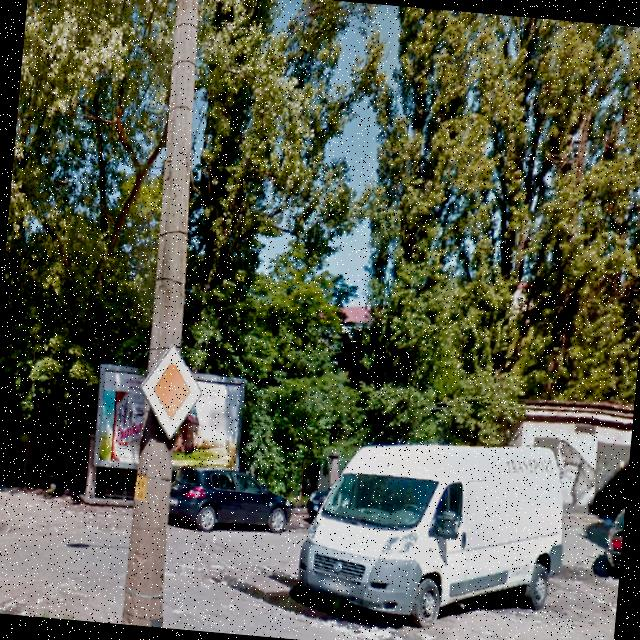Droga z pierwszenstwem: (138, 341, 202, 437)
